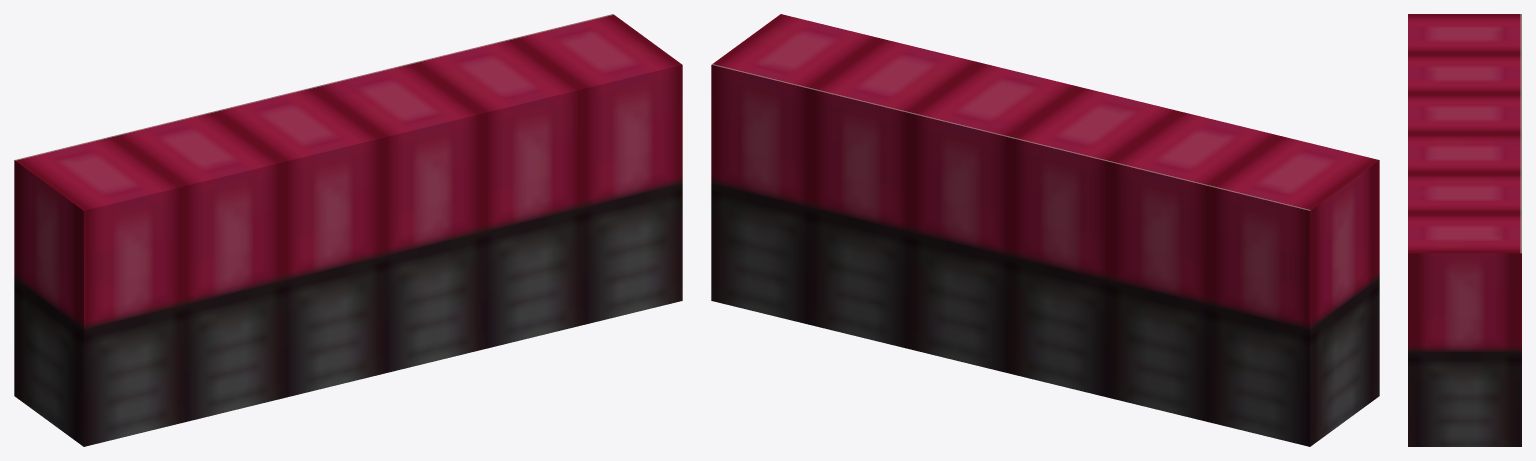
File: BarrierTokyoMid.glb
3 views of the same model, side by side, from view 1: azimuth 30°, elevation 25°; view 2: azimuth 150°, elevation 25°; view 3: azimuth 270°, elevation 25° (orthographic). The views are drawn at different scales.
Visible parts, largest first — view 1: BarrierTokyoMid; view 2: BarrierTokyoMid; view 3: BarrierTokyoMid.
Boxes of the visible parts, box(x1,y1,x2,y2) form: BarrierTokyoMid: box(14, 14, 682, 446); BarrierTokyoMid: box(711, 14, 1379, 446); BarrierTokyoMid: box(1408, 14, 1521, 446).
Size of the model in its own units: 2.11 by 0.7956 by 0.4239.
Materials: 1 (1 with a texture image).
